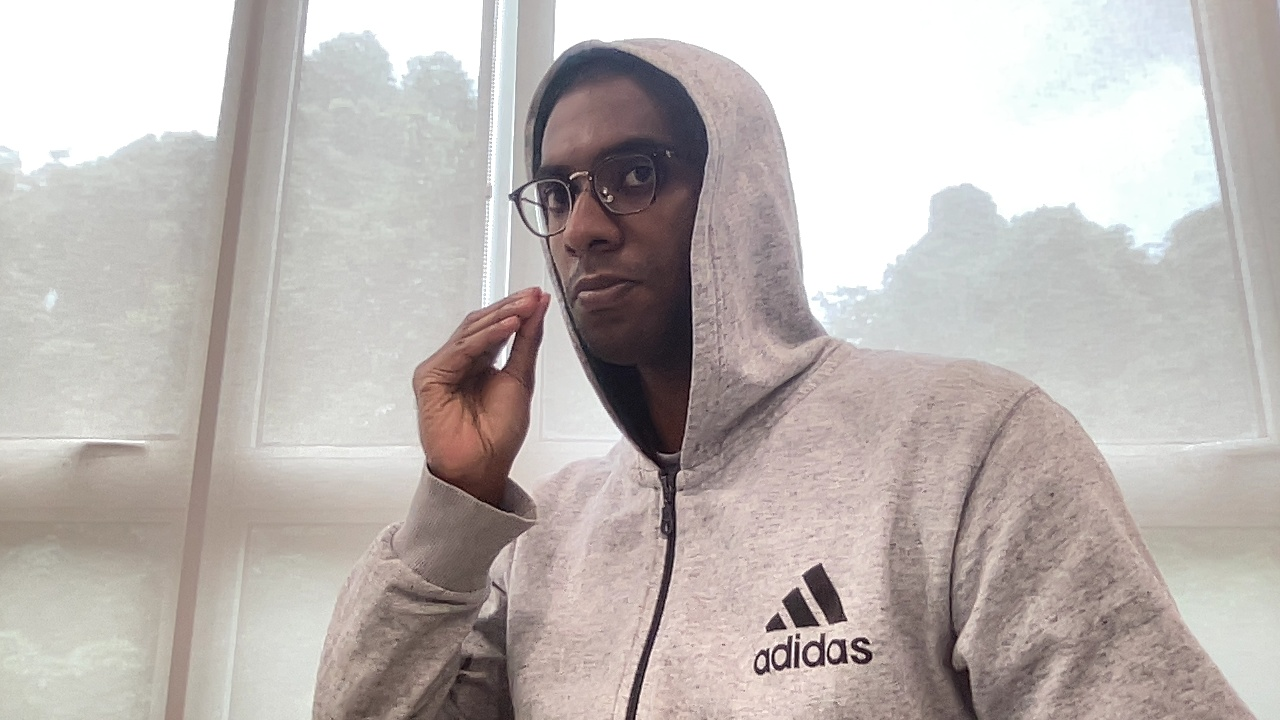eat: (400, 284, 564, 482)
